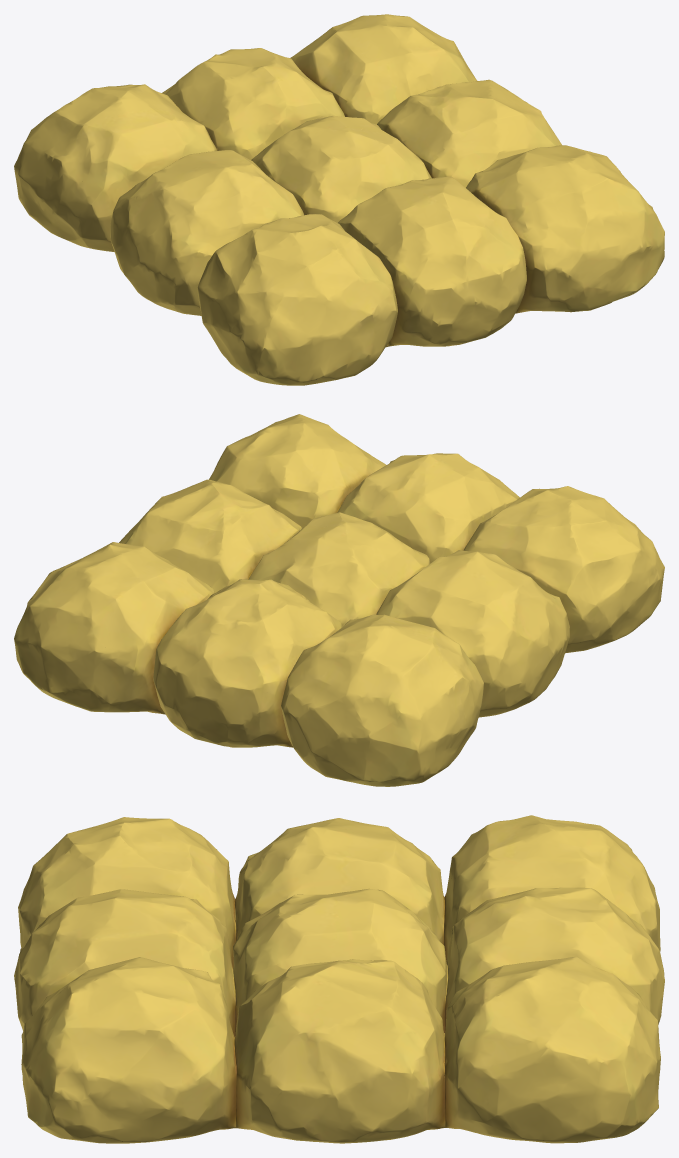
File: tripo_convert_4470de55-fa59-4b26-b6bc-8a3f7fcc38dd.fbx
3 views of the same model, one above another, from view 1: azimuth 30°, elevation 25°; view 2: azimuth 150°, elevation 25°; view 3: azimuth 270°, elevation 25° (orthographic). The views are drawn at different scales.
Visible parts, largest first — view 1: tripo_node_4470de55; view 2: tripo_node_4470de55; view 3: tripo_node_4470de55.
Part boxes in pixels (bbox=[...]): tripo_node_4470de55: bbox=[14, 14, 664, 385]; tripo_node_4470de55: bbox=[14, 414, 664, 786]; tripo_node_4470de55: bbox=[14, 815, 664, 1143].
Size of the model in its own units: 0.8726 by 0.2668 by 1.
1 material, 1 textured.
